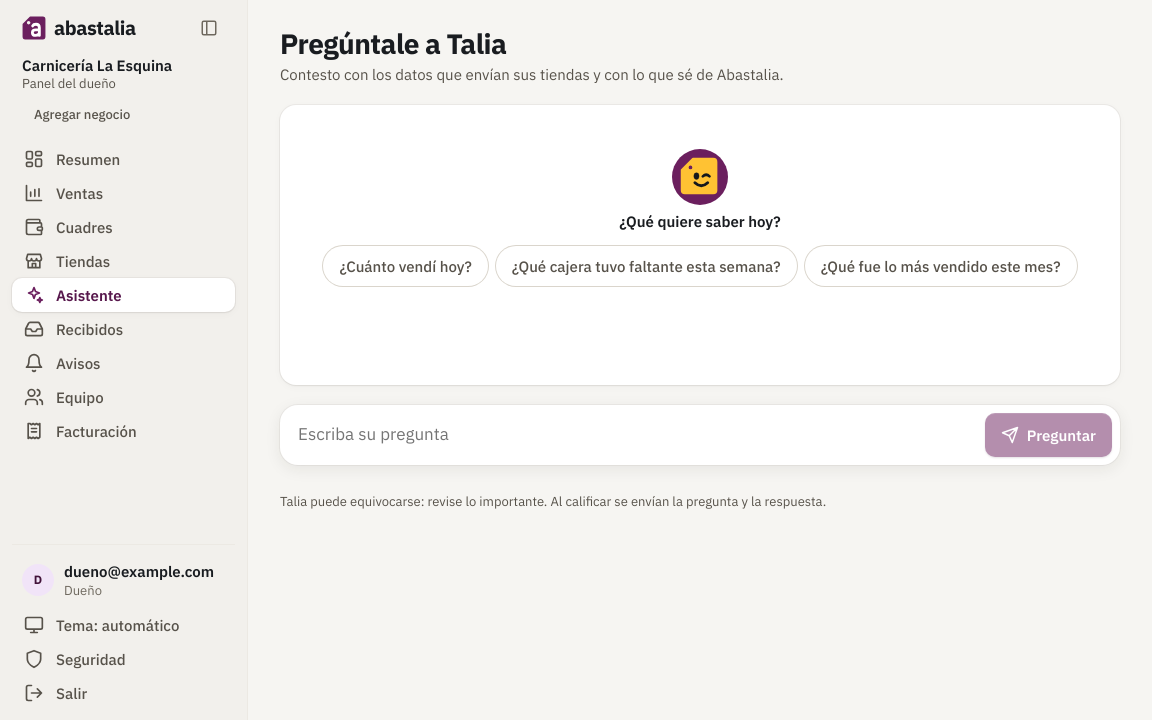
Test: TK-339: Talia's suggested screen is an "Ir a" link the user clicks; nothing navigates on its own
Click the button "¿Cuánto vendí hoy?". click: (406, 266)
box: [324,246,488,286]
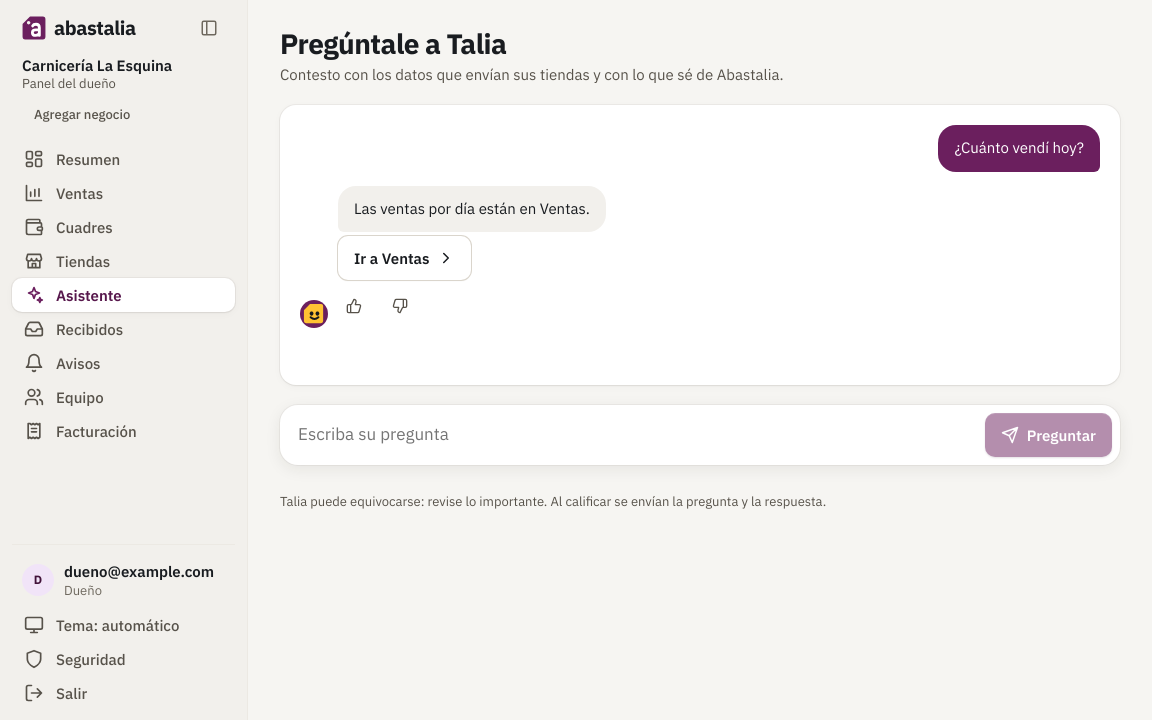
Expected: the heading "Pregúntale a Talia" is shown, [280,25,506,62]
Type "¿Y ayer?" into the field labelled "su pregunta". click: (632, 435)
box: [288,413,977,457]
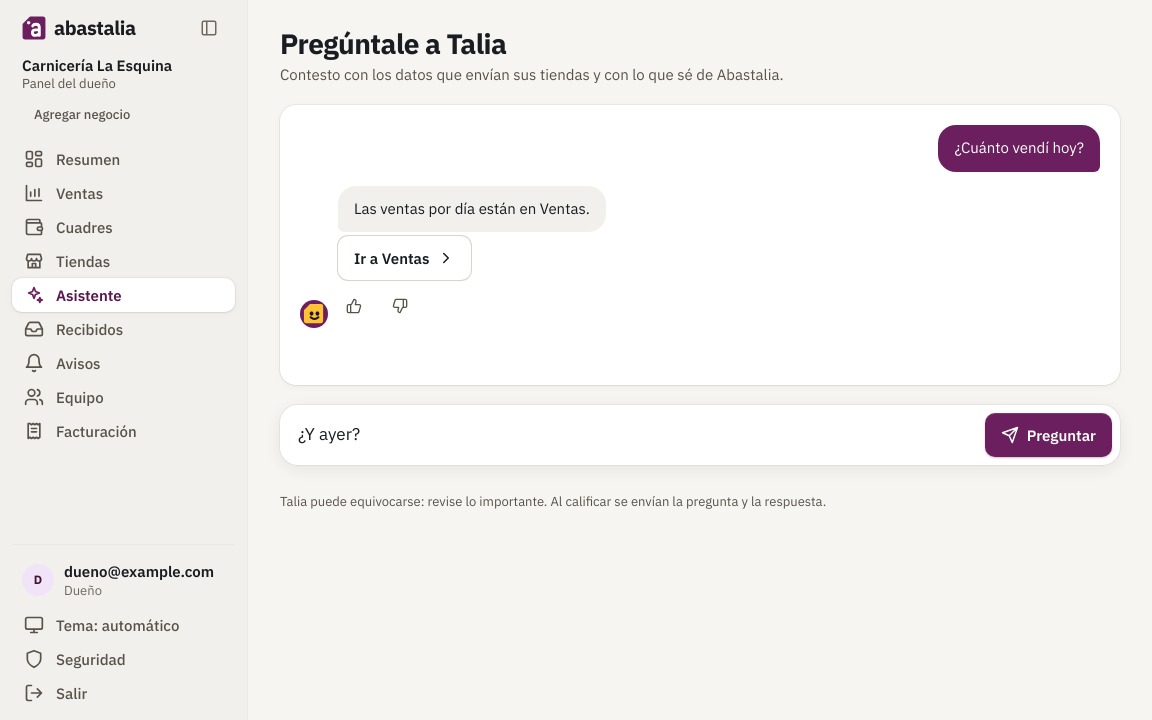
Click the button "Preguntar". click: (1048, 435)
box: [985,413,1112,457]
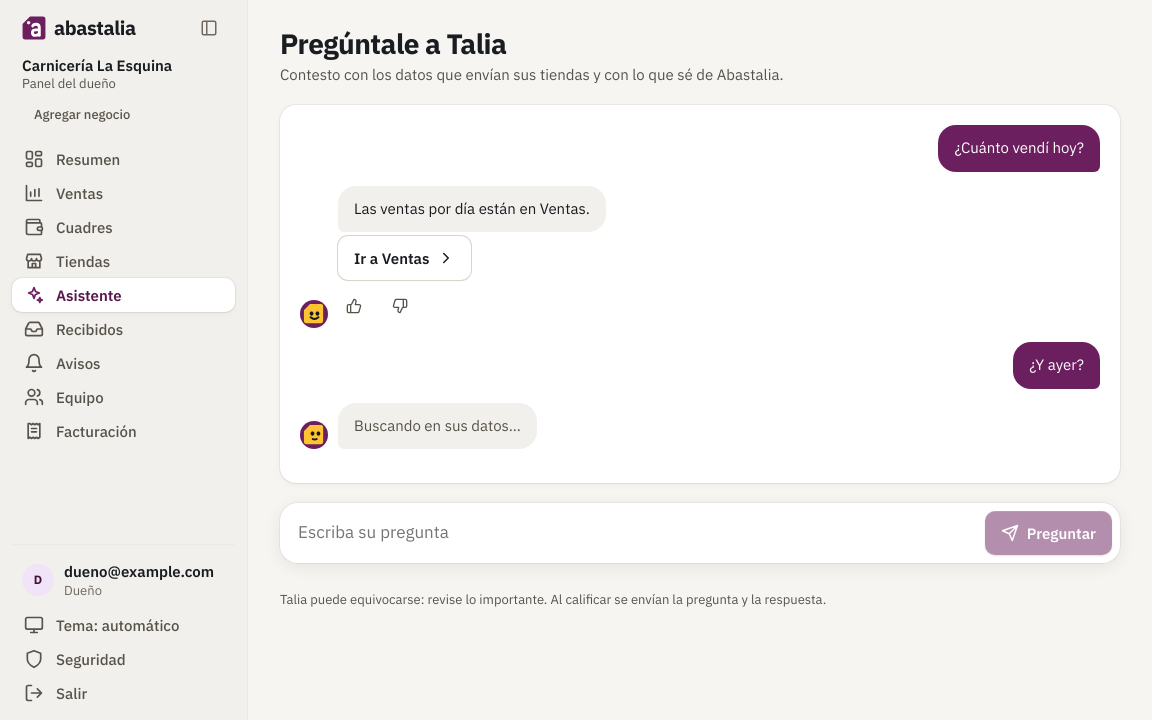
Click the link "Ir a Ventas". click: (405, 258)
box: [338,236,472,280]
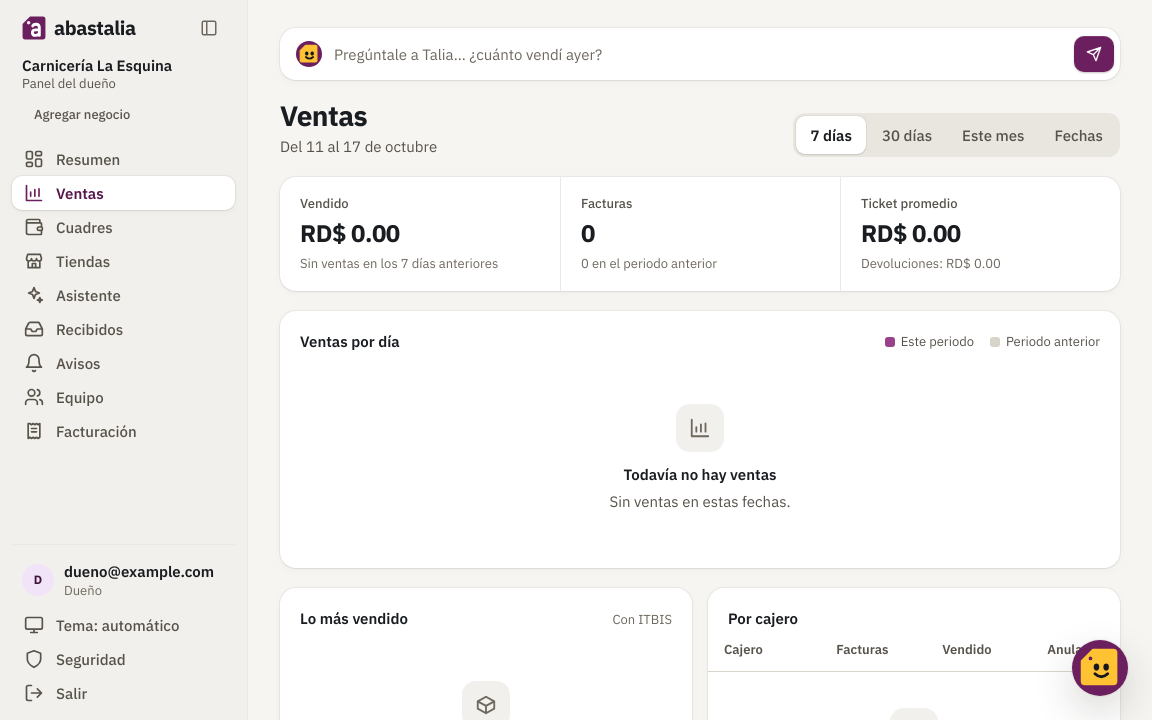
Expected: the heading "Ventas" is shown, [280,97,367,134]
